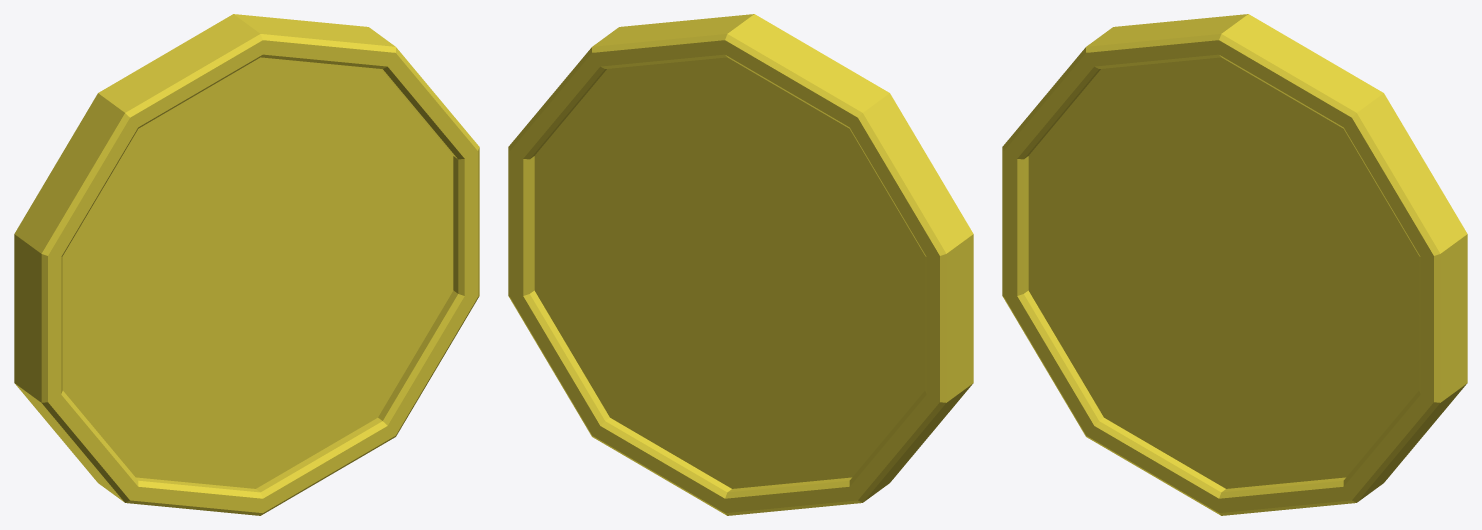
File: Simple_Coin.glb
The picture shows the model from 3 angles, left to right: view 1: azimuth 30°, elevation 25°; view 2: azimuth 150°, elevation 25°; view 3: azimuth 330°, elevation 25°; orthographic projection.
Visible parts, largest first — view 1: coin; view 2: coin; view 3: coin.
Part boxes in pixels (x1=…): coin: x1=14, y1=14, x2=479, y2=515; coin: x1=508, y1=14, x2=973, y2=515; coin: x1=1002, y1=14, x2=1467, y2=515.
Size of the model in its own units: 0.4755 by 0.5 by 0.06.
